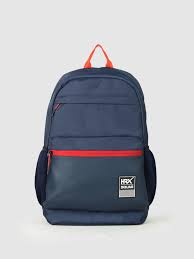backpack: (34, 43, 156, 225)
